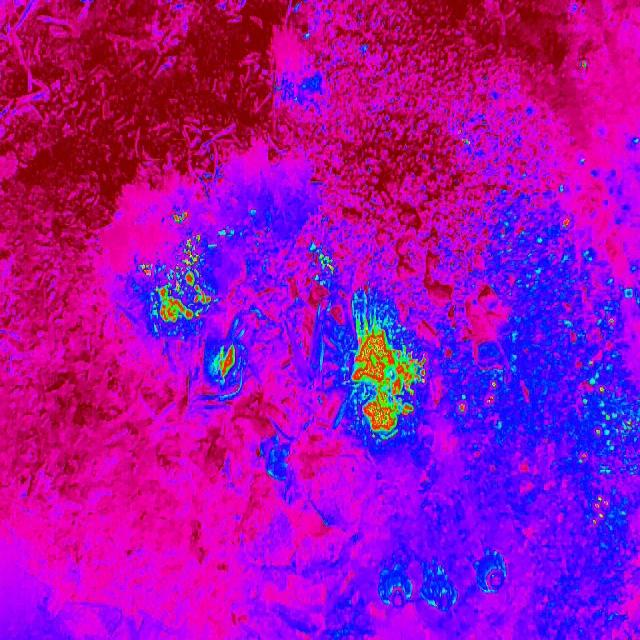fire: (555, 304, 640, 524), (342, 320, 428, 430), (140, 234, 213, 324), (452, 372, 500, 417), (213, 342, 240, 381), (312, 250, 335, 280), (168, 211, 190, 229), (557, 211, 574, 234), (459, 126, 472, 150), (576, 57, 590, 75)
